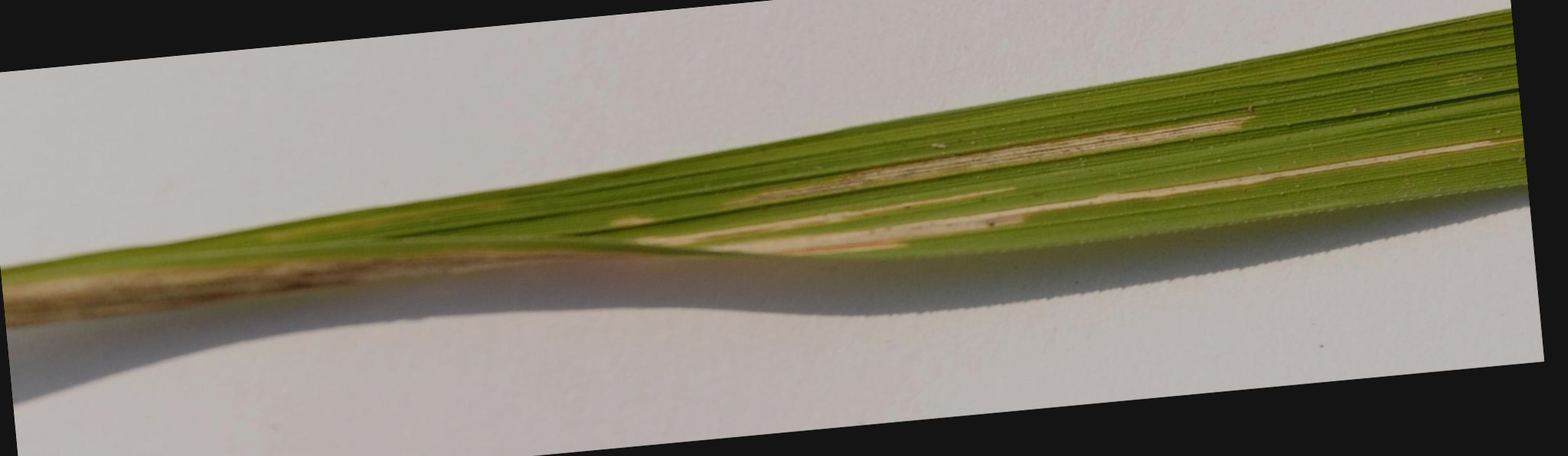Leaf_Blast: (0, 163, 1509, 253)
